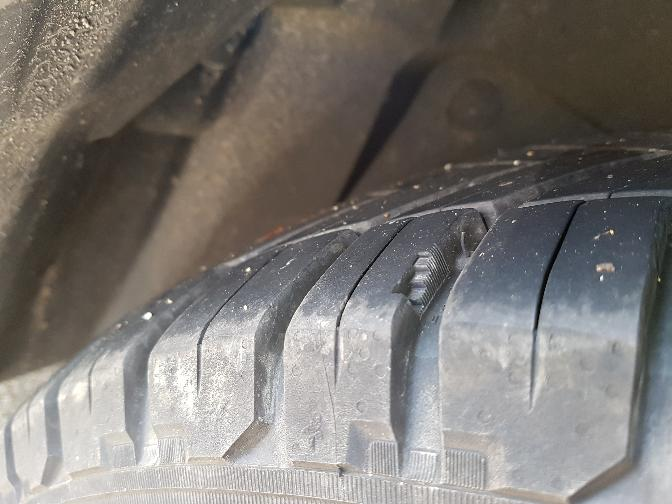temoin:90: (387, 241, 457, 324)
